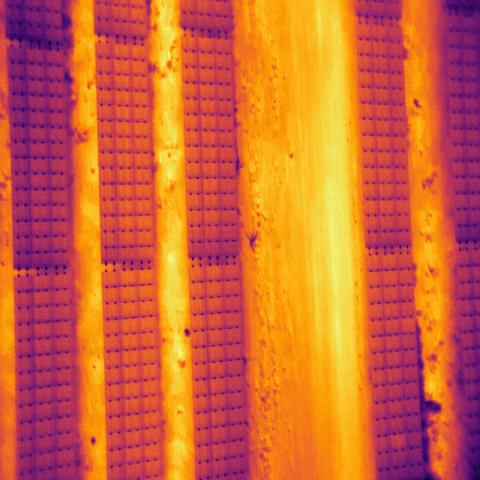fault: (391, 433, 406, 453)
